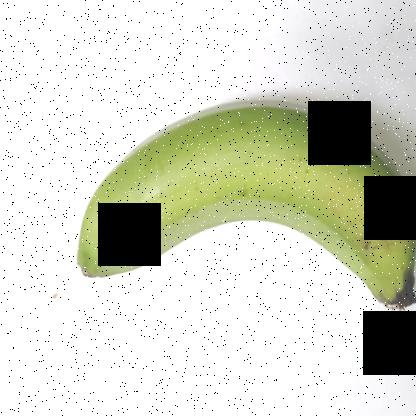freshunripe: (63, 62, 415, 328)
